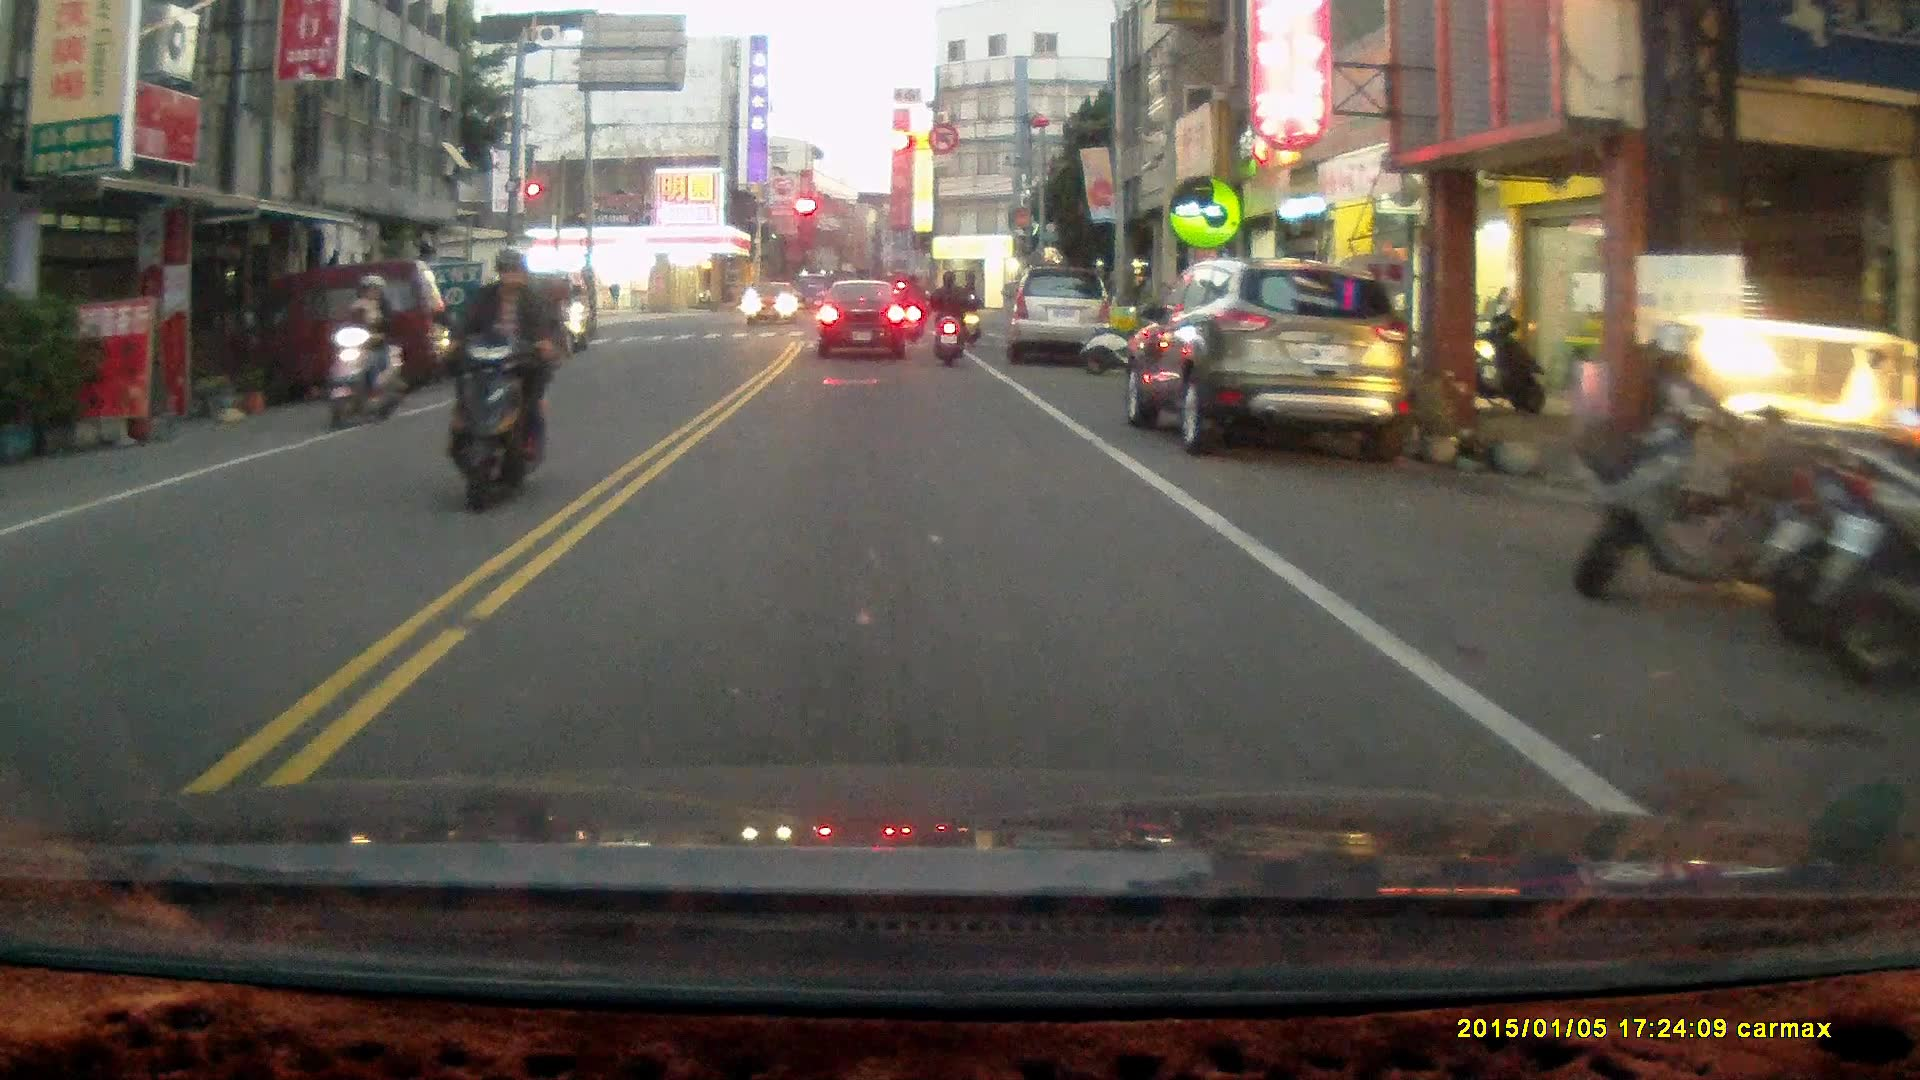rider: (430, 243, 551, 512), (321, 274, 406, 431), (922, 267, 968, 367), (897, 268, 928, 339), (956, 274, 982, 347)
vehicle: (1131, 258, 1408, 463), (224, 262, 455, 407), (1009, 271, 1115, 369), (817, 280, 911, 357), (738, 273, 797, 327)
